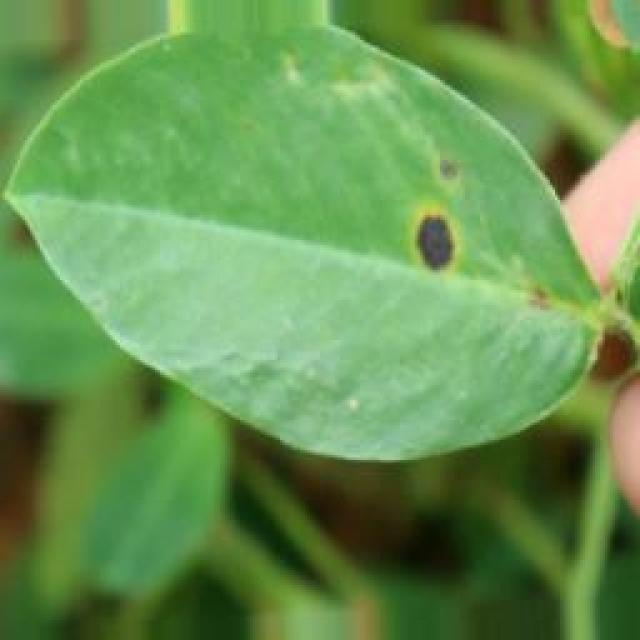Sigatoka: (388, 178, 482, 296), (519, 257, 569, 346), (431, 148, 472, 210)
